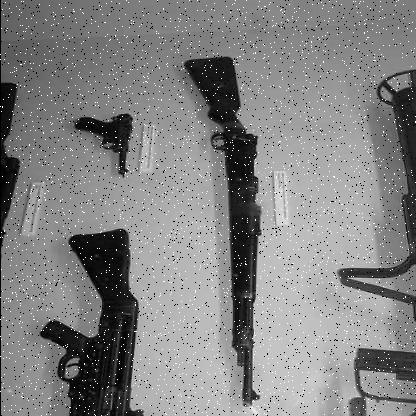rifle: (165, 53, 312, 412), (28, 221, 148, 415)
